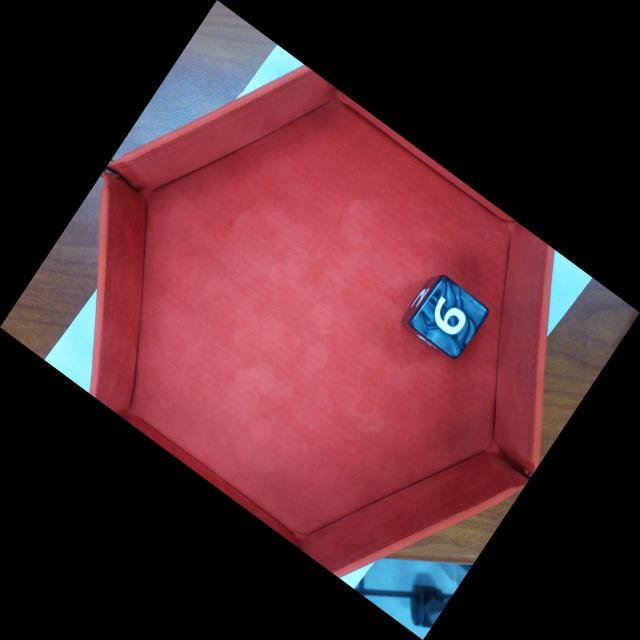dice: (413, 281, 489, 361)
